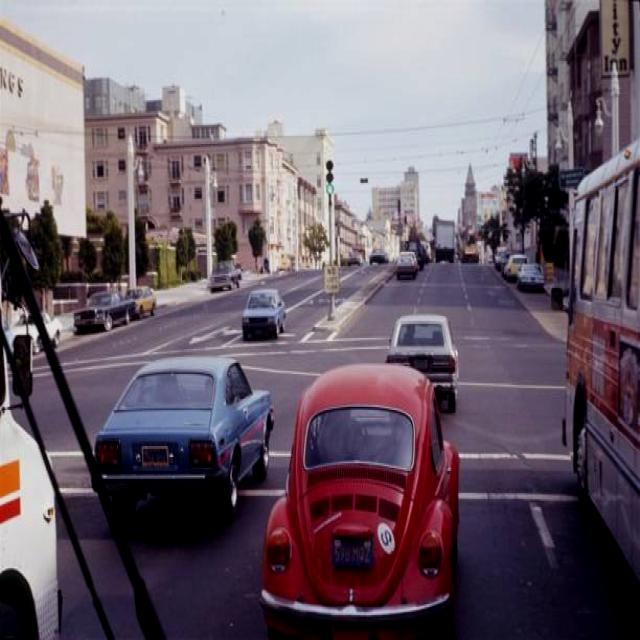car: (274, 367, 459, 640), (95, 361, 278, 516), (392, 314, 462, 412), (75, 285, 126, 330), (246, 286, 285, 343), (395, 252, 421, 283), (521, 261, 543, 292)
